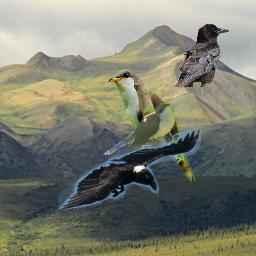Crow: (58, 127, 201, 210), (174, 23, 230, 87)
Cuckoo: (105, 69, 200, 183), (102, 103, 175, 155)
